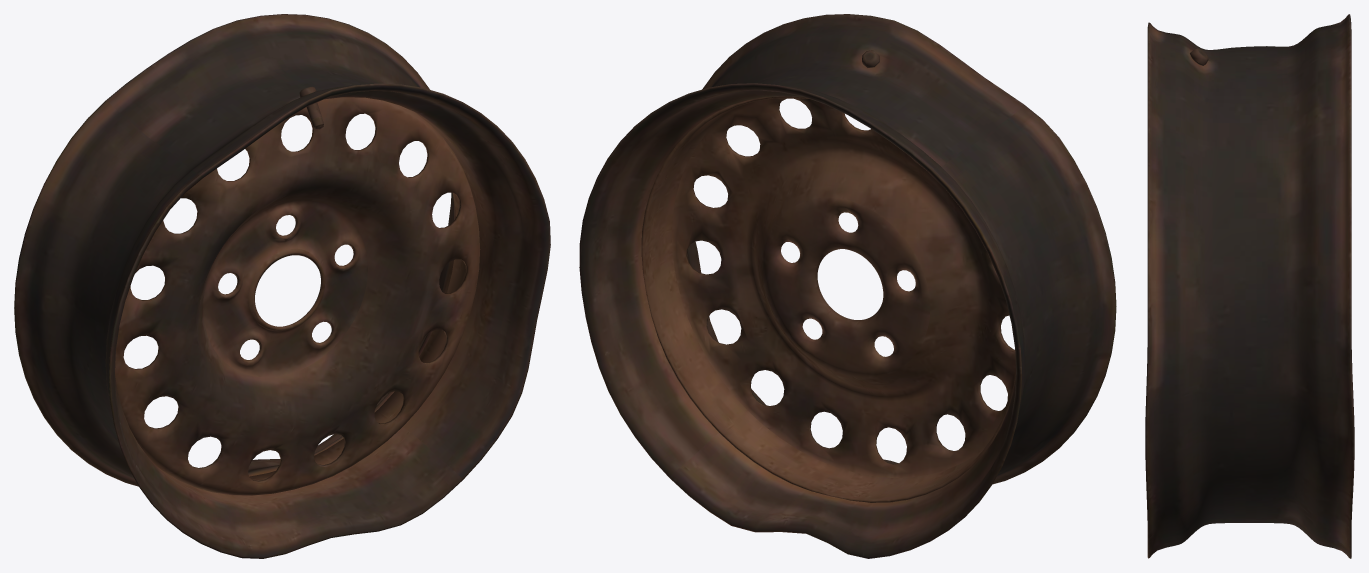
File: rusted_wheel_rim_01.glb
3 views of the same model, side by side, from view 1: azimuth 30°, elevation 25°; view 2: azimuth 150°, elevation 25°; view 3: azimuth 270°, elevation 25° (orthographic). The views are drawn at different scales.
Parts seen in each view (by area): view 1: rusted_wheel_rim_01; view 2: rusted_wheel_rim_01; view 3: rusted_wheel_rim_01.
Part boxes in pixels (x1,y1,x2,y2): rusted_wheel_rim_01: (14,14,550,558); rusted_wheel_rim_01: (579,14,1116,558); rusted_wheel_rim_01: (1145,14,1354,558).
Size of the model in its own units: 0.4028 by 0.3955 by 0.1541.
1 material, 1 textured.
